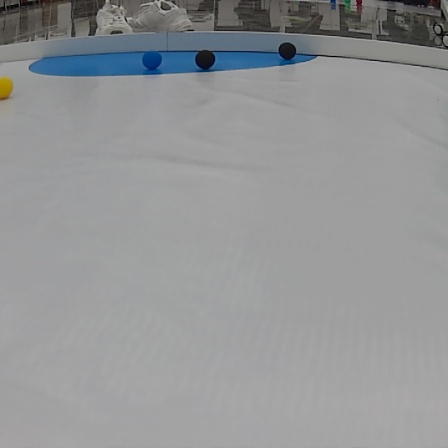black: (193, 50, 217, 70), (277, 39, 299, 59)
blue: (140, 51, 165, 71)
blue_base: (26, 44, 318, 79)
yellow: (0, 75, 13, 102)
